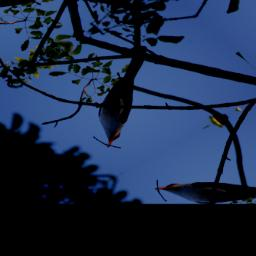Cuckoo: (54, 57, 192, 150)
